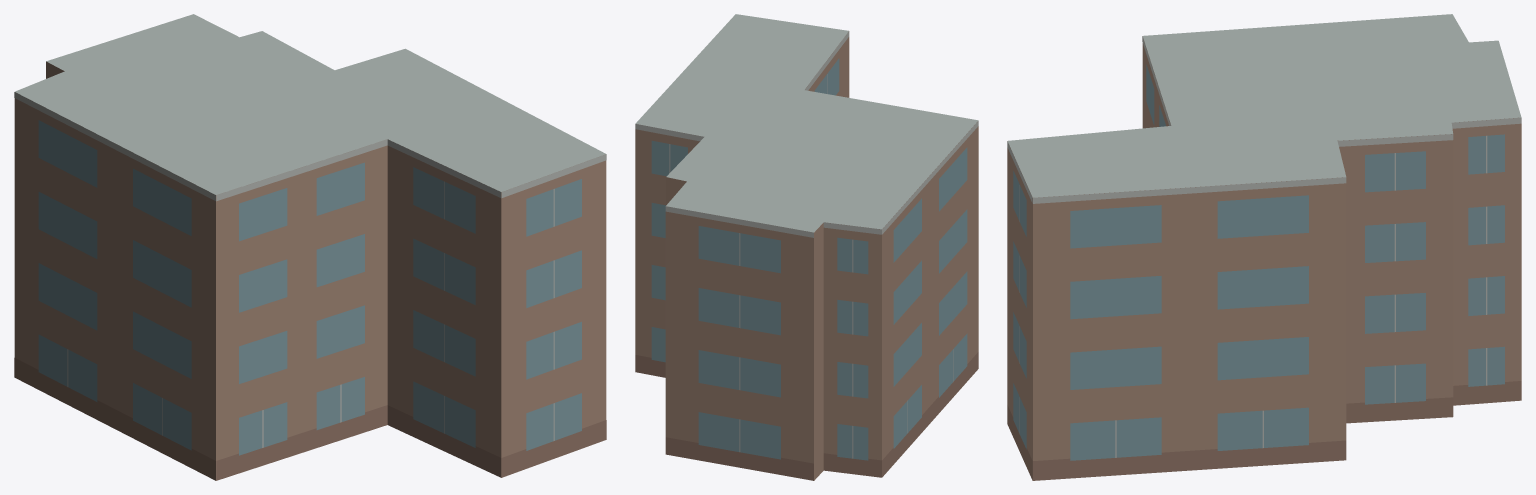
File: survey-upis-32607826.glb
The picture shows the model from 3 angles, left to right: view 1: azimuth 30°, elevation 25°; view 2: azimuth 150°, elevation 25°; view 3: azimuth 270°, elevation 25°; orthographic projection. The views are drawn at different scales.
Parts seen in each view (by area): view 1: survey-upis-32607826.tmp; view 2: survey-upis-32607826.tmp; view 3: survey-upis-32607826.tmp.
Part boxes in pixels (left/top/right/bottom): survey-upis-32607826.tmp: left=14, top=14, right=606, bottom=480; survey-upis-32607826.tmp: left=635, top=14, right=978, bottom=480; survey-upis-32607826.tmp: left=1007, top=14, right=1521, bottom=480.
Bounding box in the file's own units: 15.61 × 11.2 × 18.45.
